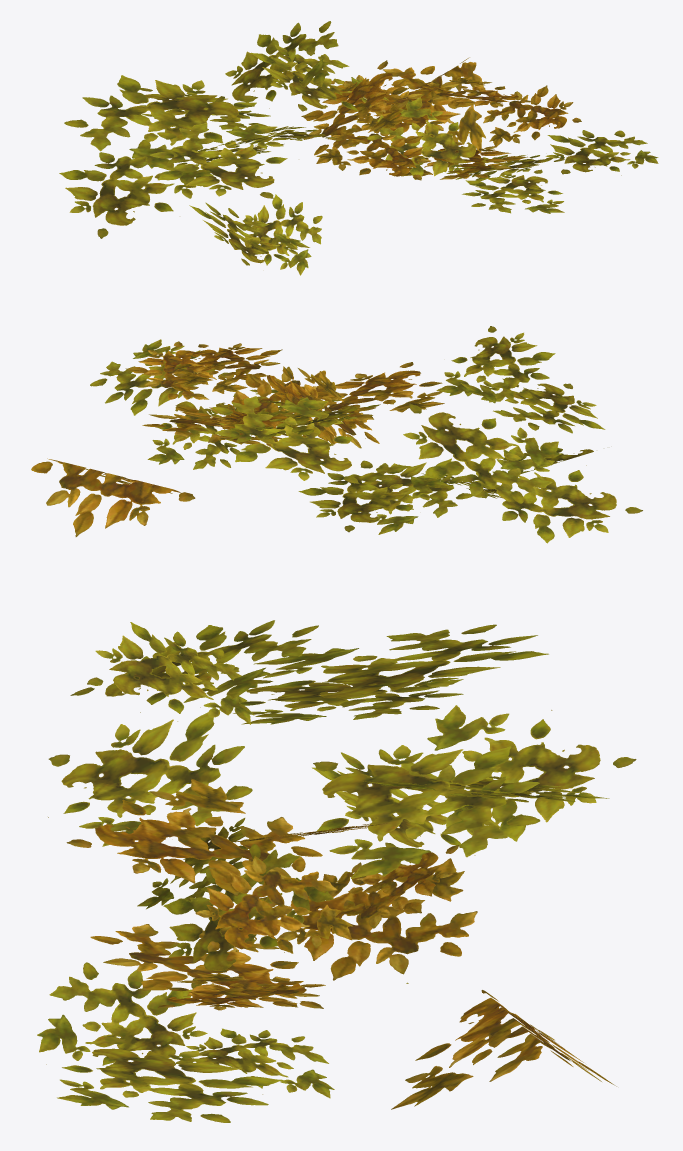
The model's file is S_Tree_Green036_1.FBX.
3 renders of one model, top to bottom at view 1: azimuth 30°, elevation 25°; view 2: azimuth 150°, elevation 25°; view 3: azimuth 270°, elevation 25°, orthographic. The views are drawn at different scales.
Parts seen in each view (by area): view 1: S_Tree_Green036_1; view 2: S_Tree_Green036_1; view 3: S_Tree_Green036_1.
Part boxes in pixels (x1,y1,x2,y2): S_Tree_Green036_1: (59,21,658,275); S_Tree_Green036_1: (31,326,642,543); S_Tree_Green036_1: (37,620,636,1122).
Size of the model in its own units: 533 by 332 by 154.
